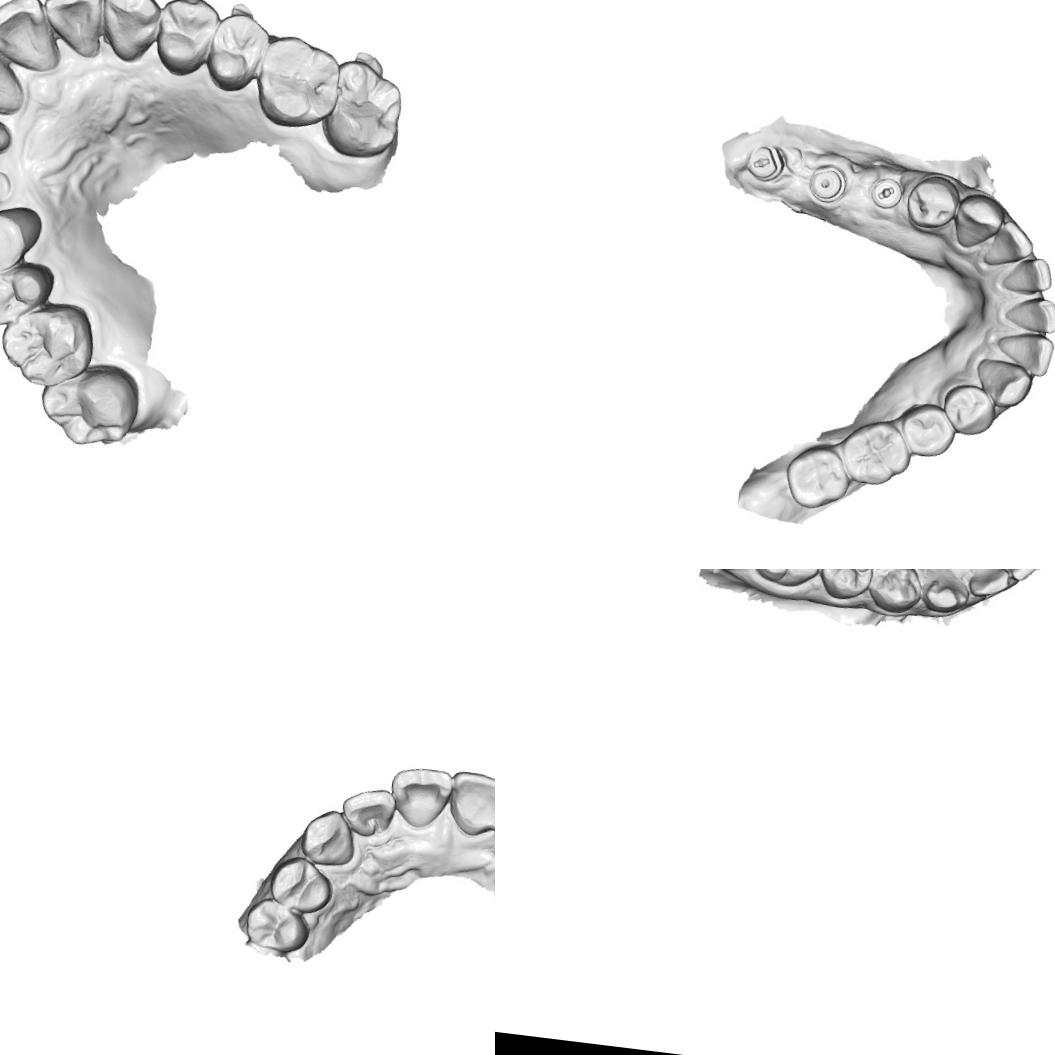canine: (97, 0, 163, 65), (298, 806, 360, 870), (950, 190, 1007, 254), (973, 356, 1036, 411), (918, 569, 973, 618)
implant: (804, 160, 852, 206), (0, 167, 14, 206)
implant_minus: (744, 142, 787, 185), (867, 175, 905, 212)
incisor: (0, 0, 67, 74), (386, 763, 454, 833), (38, 0, 108, 59), (443, 767, 495, 841), (338, 782, 400, 842), (980, 215, 1038, 271), (993, 328, 1055, 378), (0, 35, 34, 116), (1000, 253, 1055, 298), (1002, 293, 1055, 336), (964, 569, 1017, 602), (1002, 569, 1049, 585)
molar: (34, 358, 144, 453), (249, 30, 344, 134), (318, 56, 408, 162), (0, 298, 94, 395), (836, 415, 916, 490), (781, 440, 854, 514), (744, 569, 832, 593)
premolar: (201, 8, 272, 96), (151, 0, 221, 79), (264, 852, 338, 918), (241, 892, 314, 956), (0, 198, 46, 284), (0, 260, 50, 334), (898, 399, 958, 460), (904, 172, 963, 232), (940, 380, 999, 439), (867, 569, 929, 617), (817, 569, 877, 603)
